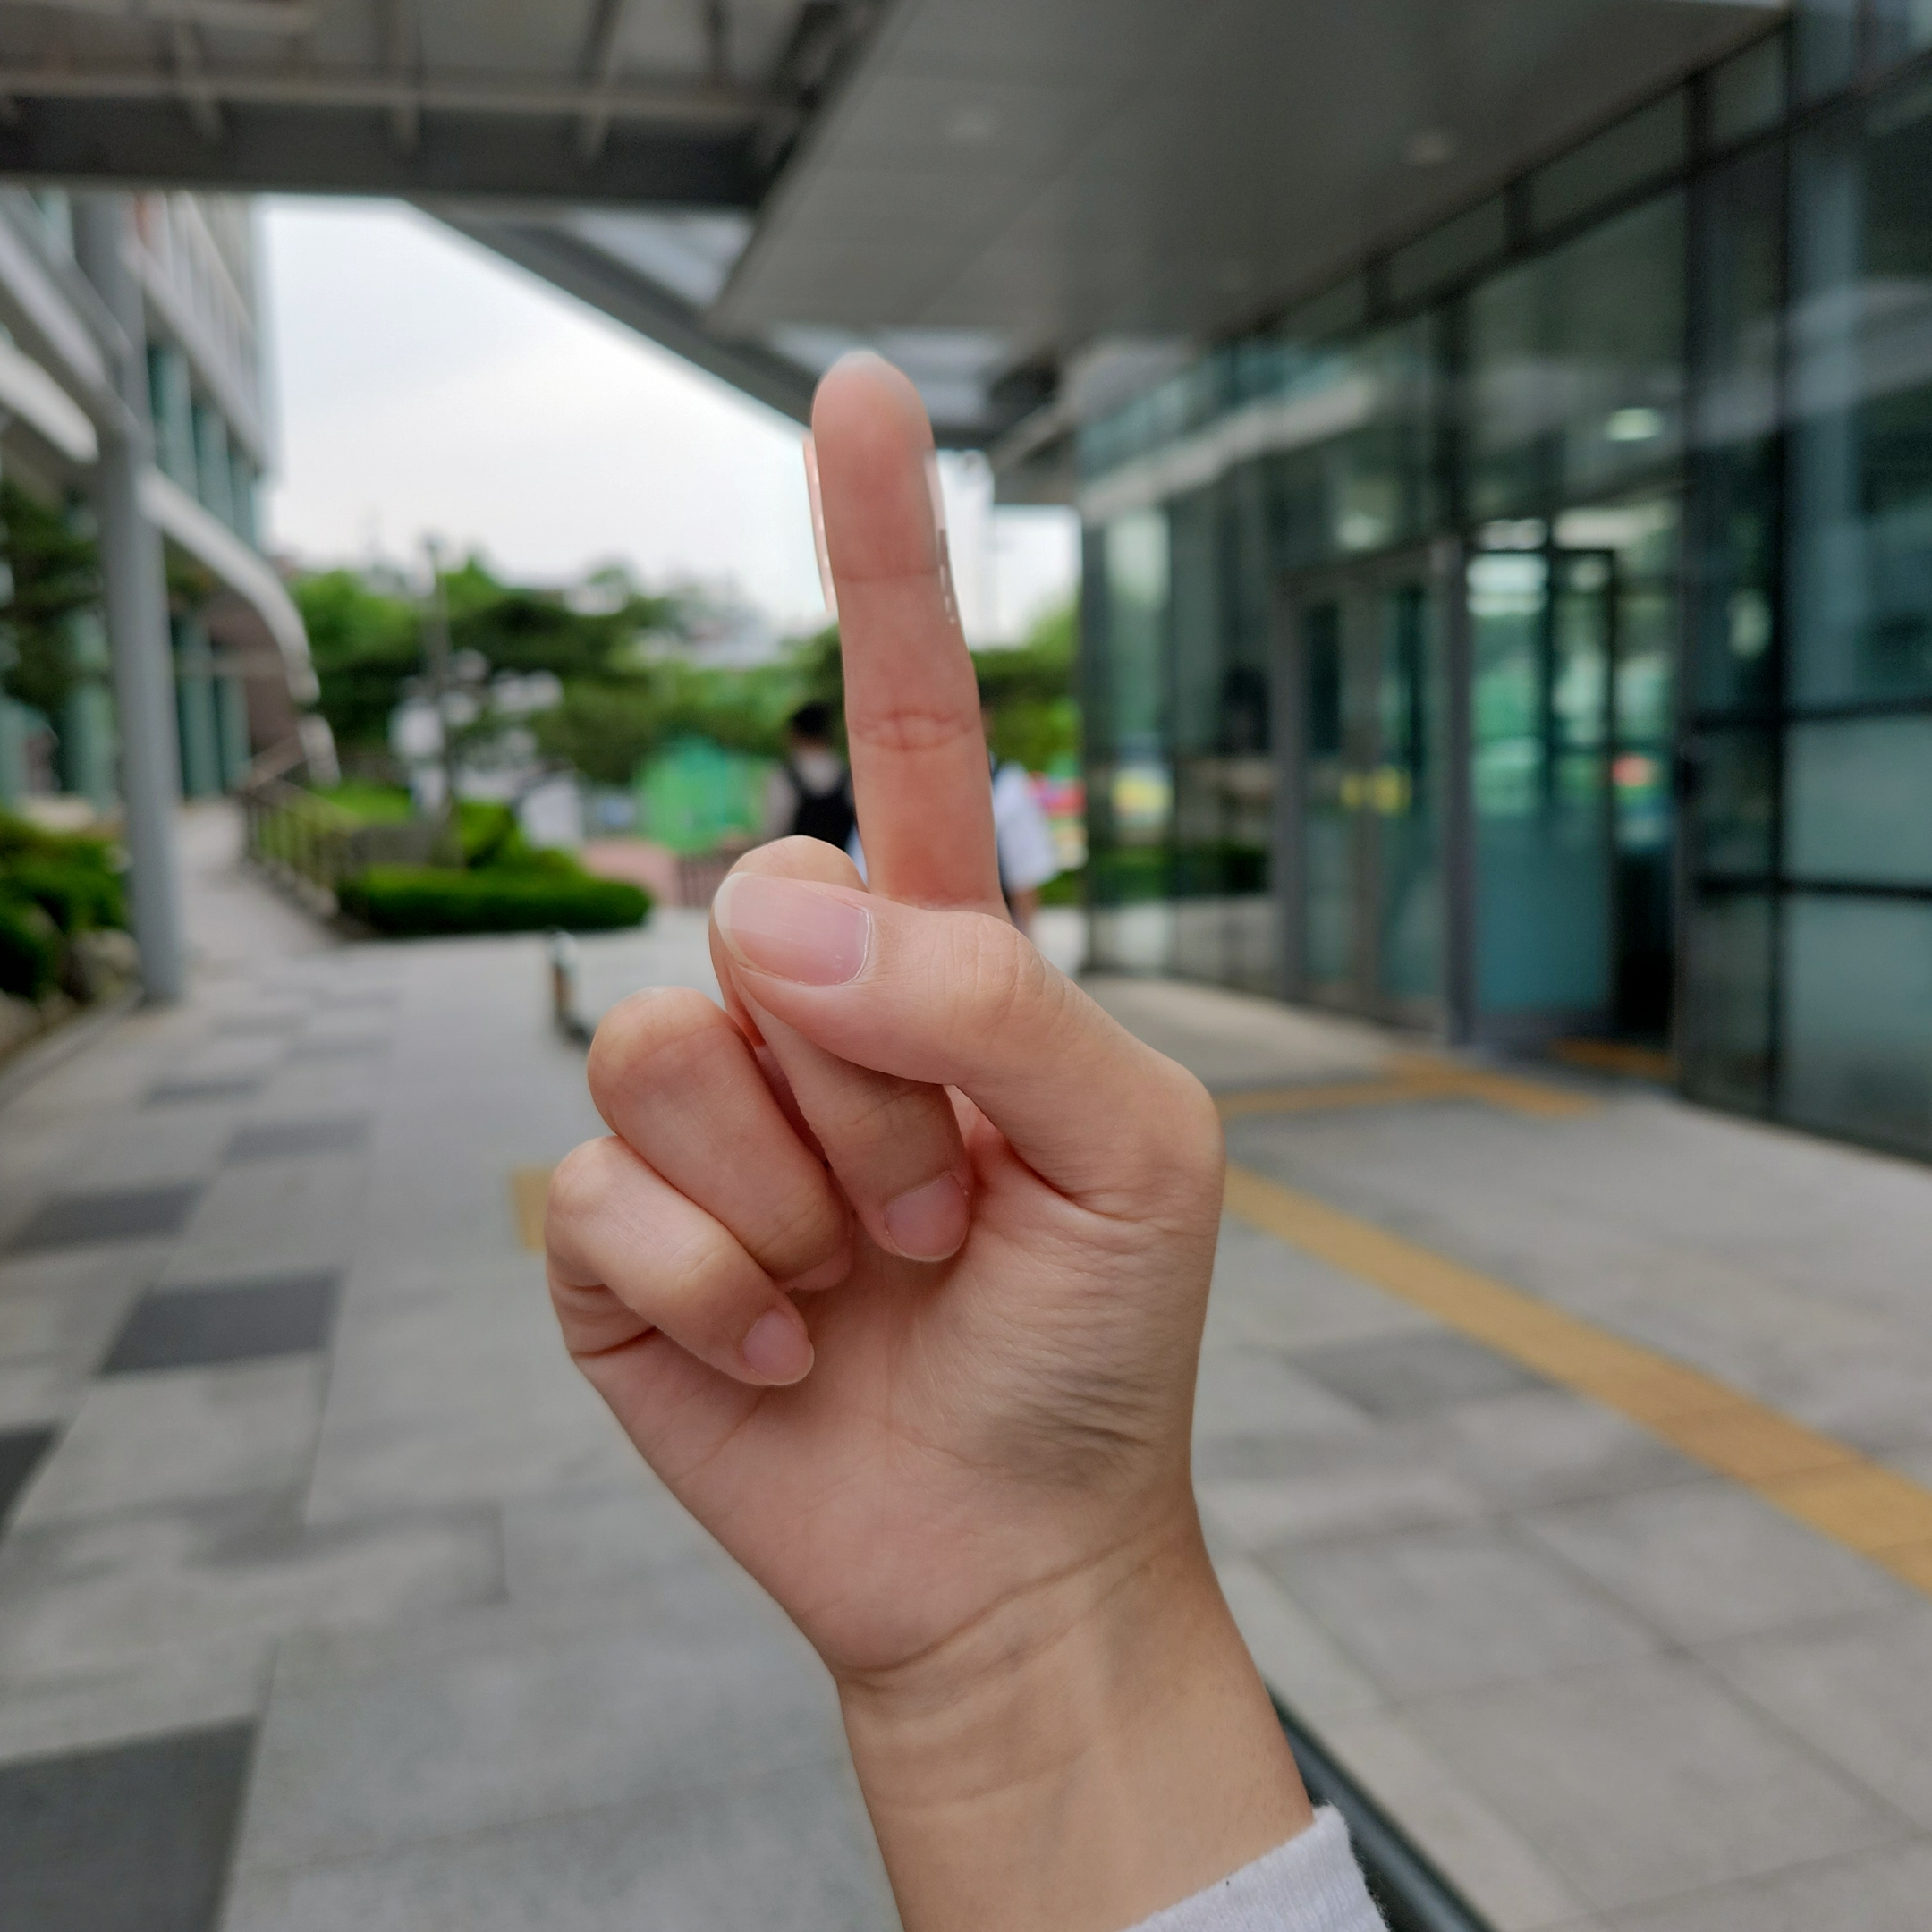what: (540, 350, 1230, 1665)
